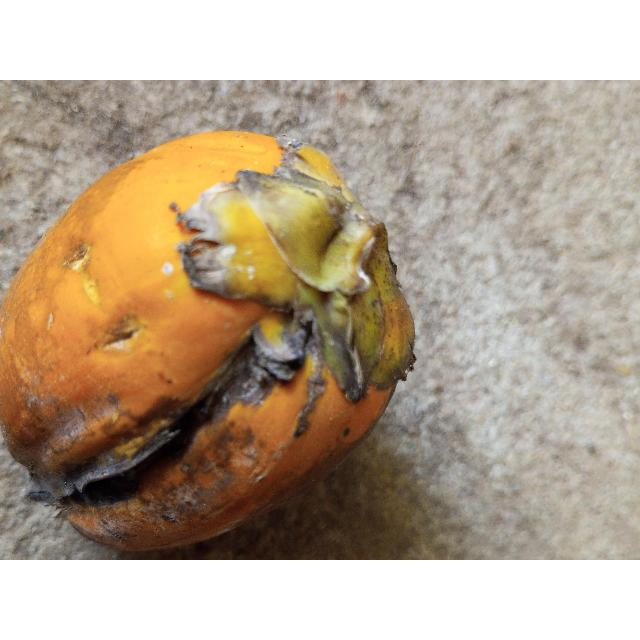damaged: (0, 131, 414, 548)
